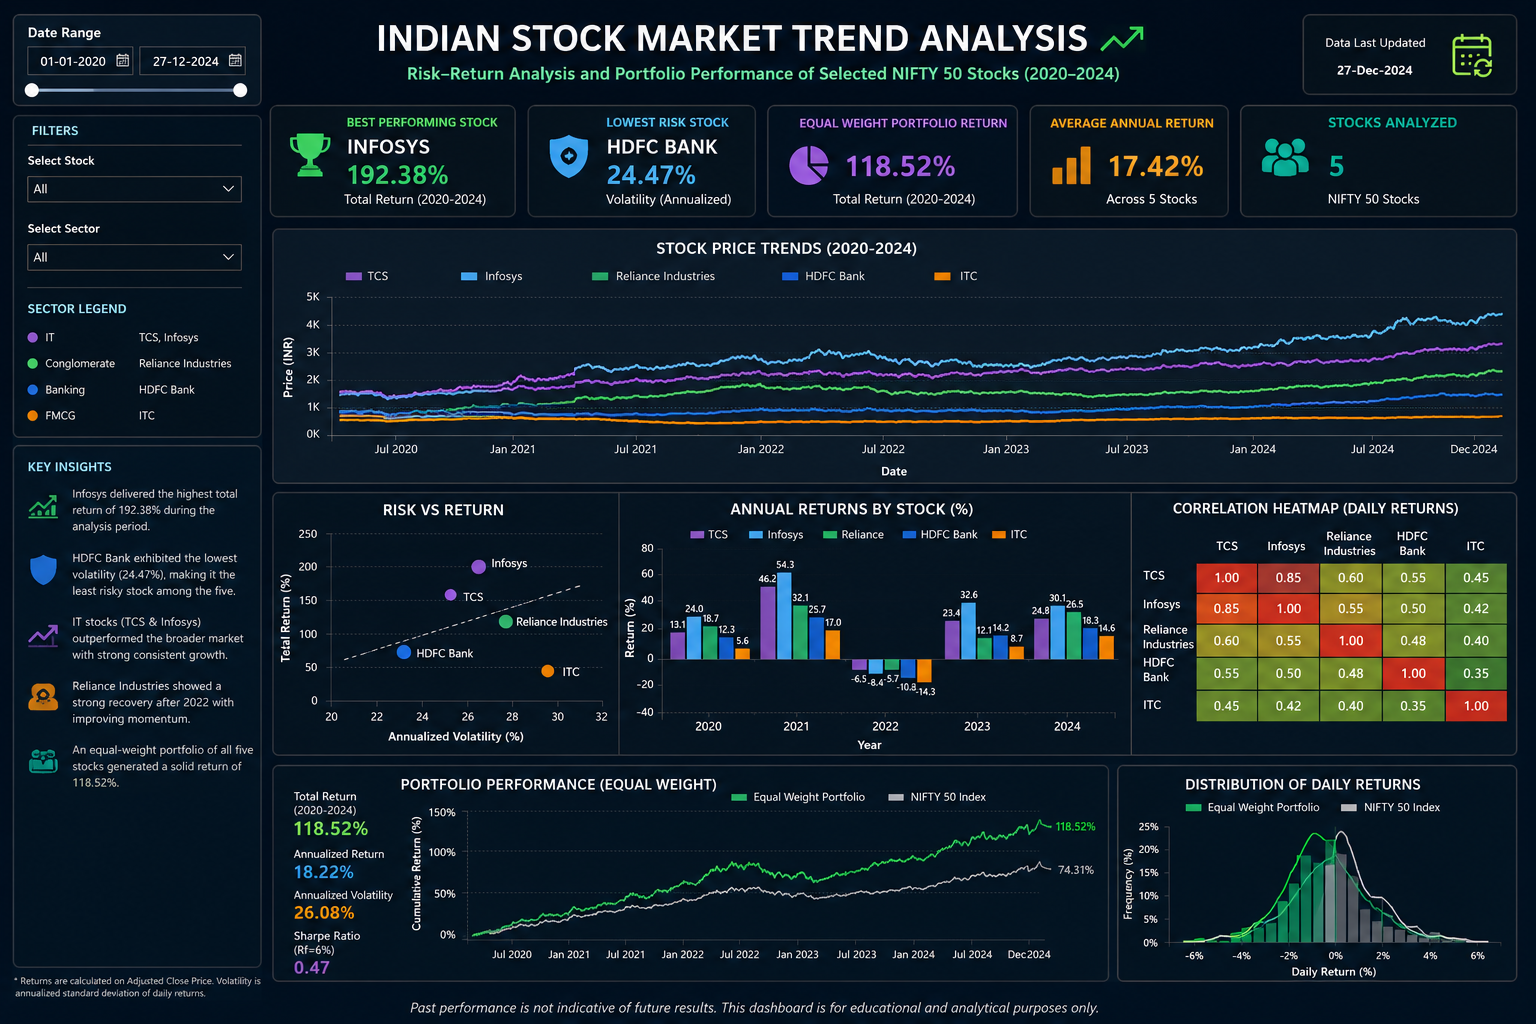

The dashboard page shown, as its layout file describes it:
{"tool":"powerbi","page":{"name":"Overview","canvas":[1280,720],"ordinal":0},"visuals":[{"type":"lineChart","title":"Stock Price Trends (2020-2024)","fields":{"Category":["stock_prices_clean.Date"],"Y":["Sum(stock_prices_clean.TCS)","Sum(stock_prices_clean.Infosys)","Sum(stock_prices_clean.Reliance)","Sum(stock_prices_clean.ITC)","Sum(stock_prices_clean.HDFC Bank)"]},"box":[0,201.7,1275,225],"z":0},{"type":"slicer","fields":{"Values":["stock_prices_clean.Date"]},"box":[0,0,328.8,92.5],"z":1000},{"type":"scatterChart","title":"Risk vs Return by Stock","fields":{"Category":["risk_return.Stock"],"X":["Sum(risk_return.Volatility)"],"Y":["Sum(risk_return.Total_Return)"],"Series":["risk_return.Stock"]},"box":[0,426.7,450,293.3],"z":2000},{"type":"clusteredColumnChart","title":"Annual Returns by Stock (%)","fields":{"Category":["annual_returns.Year"],"Y":["Avg(annual_returns.TCS)","Avg(annual_returns.HDFC Bank)","Avg(annual_returns.Infosys)","Avg(annual_returns.ITC)","Avg(annual_returns.Reliance)"]},"box":[450,426.7,825,293.3],"z":3000},{"type":"cardVisual","title":"Highest Total Return (%)","fields":{"Data":["Max(risk_return.Total_Return)"]},"box":[0,92.5,328.8,108.8],"z":4000},{"type":"cardVisual","title":"Lowest Volatility (%)","fields":{"Data":["Min(risk_return.Volatility)"]},"box":[395,81.2,323.8,120],"z":5000},{"type":"cardVisual","title":"Stocks Tracked","fields":{"Data":["CountNonNull(risk_return.Stock)"]},"box":[825,81.2,362.5,118.8],"z":6000},{"type":"textbox","box":[315,0,928.8,70],"z":7000}]}

Visuals, with their boxes on the page's 1280x720 design canvas (x1, y1, x2, y2). These are canvas units, not pixel positions in the 1536x1024 screenshot, which may show the page scaled, cropped or inside an application window:
"Stock Price Trends (2020-2024)" lineChart: [x1=0, y1=202, x2=1275, y2=427]
slicer - stock_prices_clean.Date: [x1=0, y1=0, x2=329, y2=92]
"Risk vs Return by Stock" scatterChart: [x1=0, y1=427, x2=450, y2=720]
"Annual Returns by Stock (%)" clusteredColumnChart: [x1=450, y1=427, x2=1275, y2=720]
"Highest Total Return (%)" cardVisual: [x1=0, y1=92, x2=329, y2=201]
"Lowest Volatility (%)" cardVisual: [x1=395, y1=81, x2=719, y2=201]
"Stocks Tracked" cardVisual: [x1=825, y1=81, x2=1188, y2=200]
textbox: [x1=315, y1=0, x2=1244, y2=70]
